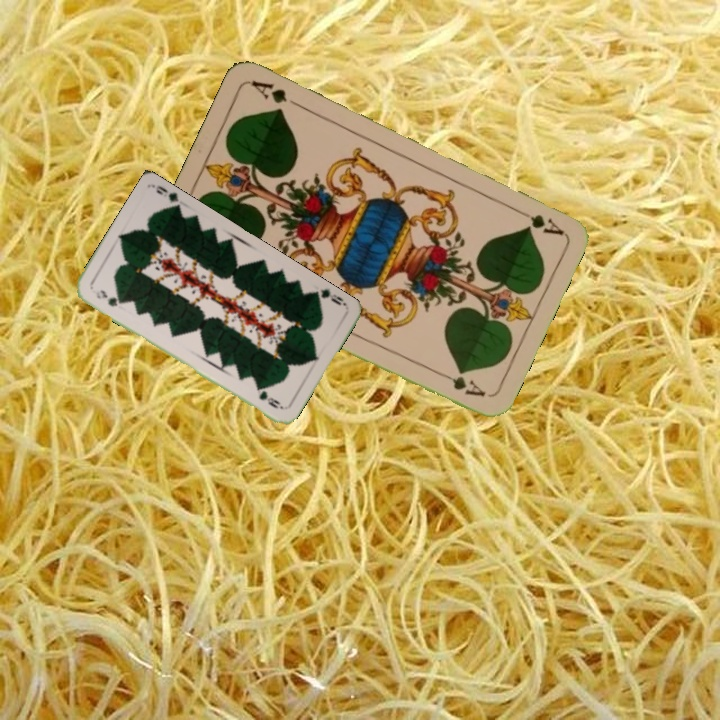G9: (308, 285, 349, 308), (92, 286, 125, 309)
GA: (510, 204, 566, 238)
